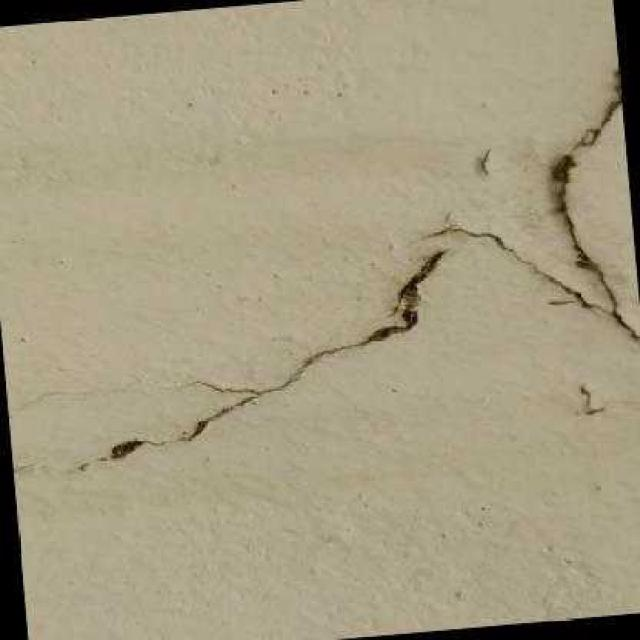D00: (74, 258, 445, 476), (438, 102, 636, 338)
